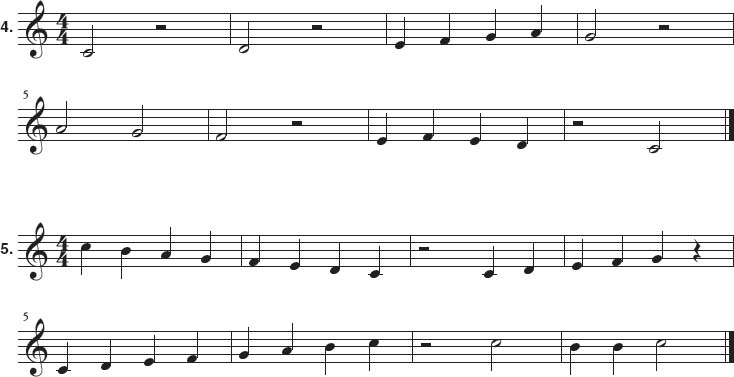half_down: (655, 339, 667, 372), (488, 338, 500, 371)
half_up: (83, 26, 94, 57), (238, 23, 249, 54), (56, 103, 67, 134), (132, 106, 143, 137), (215, 109, 226, 140), (585, 10, 596, 41), (649, 122, 660, 153)
quarter_down: (569, 343, 581, 376), (611, 342, 623, 375), (368, 339, 380, 372), (322, 343, 334, 376), (118, 246, 130, 279), (78, 243, 90, 276)
quarter_up: (395, 17, 406, 49), (439, 14, 450, 46), (485, 9, 496, 41), (531, 6, 542, 38), (376, 113, 387, 145), (423, 110, 434, 142), (470, 113, 481, 145), (517, 117, 528, 149), (483, 246, 494, 278), (523, 243, 534, 275), (572, 239, 583, 271), (369, 246, 380, 278), (329, 243, 340, 275), (289, 240, 300, 272), (249, 237, 260, 269), (200, 232, 211, 264), (160, 228, 171, 260), (57, 342, 68, 374), (100, 339, 111, 371), (144, 335, 155, 367), (187, 332, 198, 364), (238, 327, 249, 359), (282, 323, 293, 355), (612, 235, 623, 267), (652, 232, 663, 264)
rest: (155, 24, 167, 31), (657, 24, 671, 30), (291, 120, 303, 126), (572, 120, 584, 126), (311, 24, 323, 30), (418, 246, 430, 251), (420, 342, 432, 347)
rest_quarter: (692, 239, 702, 263)
